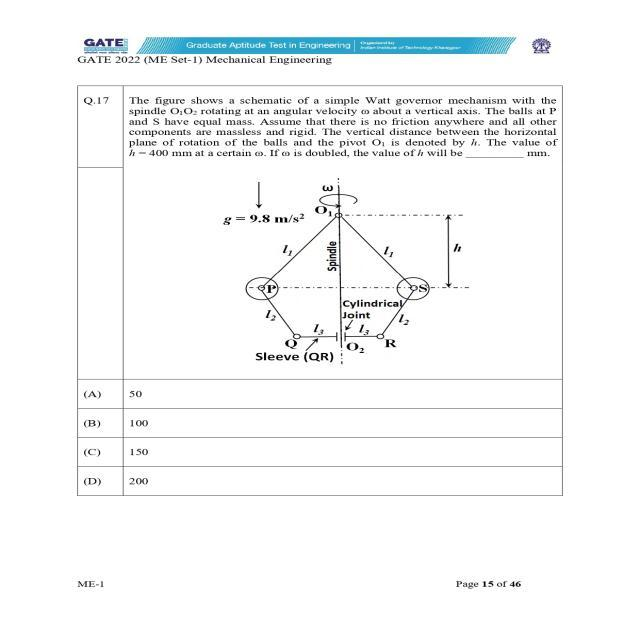Answer_Block: (43, 378, 580, 499)
Question_Answer_Block: (43, 84, 580, 524)
Question_Block: (43, 84, 580, 378)
Question_Paper_Area: (43, 84, 580, 524)
